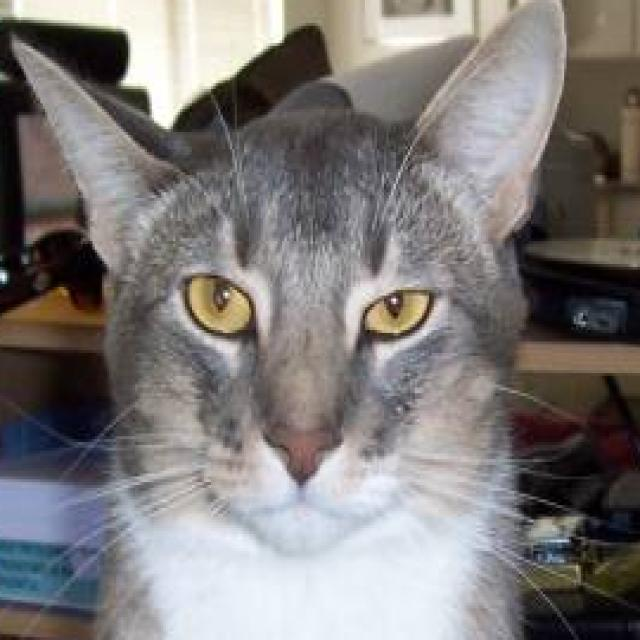Abyssinian: (5, 0, 588, 640)
